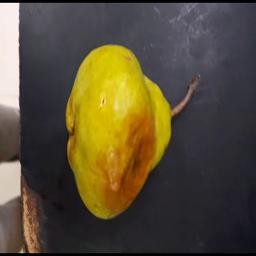Pear Rotten: (55, 40, 202, 219)
